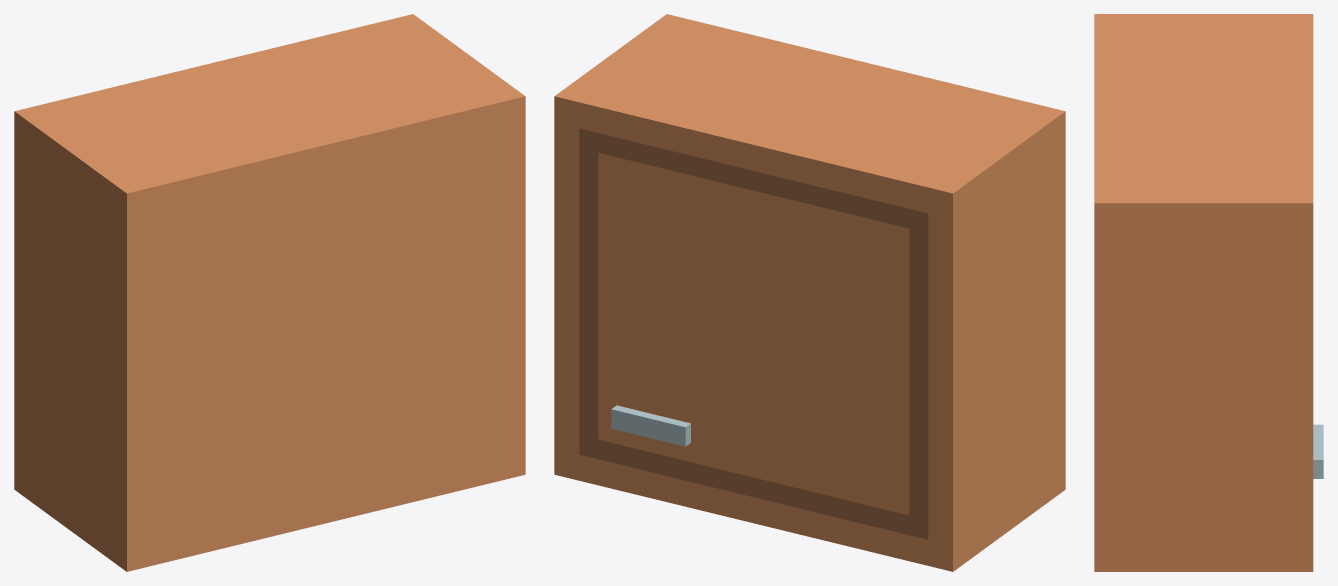
File: kitchenCabinetUpper.dae
3 renders of one model, left to right at view 1: azimuth 30°, elevation 25°; view 2: azimuth 150°, elevation 25°; view 3: azimuth 270°, elevation 25°, orthographic. The views are drawn at different scales.
Visible parts, largest first — view 1: kitchenCabinetUpper; view 2: kitchenCabinetUpper, door; view 3: kitchenCabinetUpper, door.
Boxes of the visible parts, x1,y1,x2,y2 form: kitchenCabinetUpper: [14, 14, 525, 571]; kitchenCabinetUpper: [554, 14, 1065, 571]; door: [579, 128, 928, 539]; kitchenCabinetUpper: [1094, 14, 1313, 571]; door: [1313, 424, 1323, 478].
Bounding box in the file's own units: 0.43 × 0.39 × 0.22.
